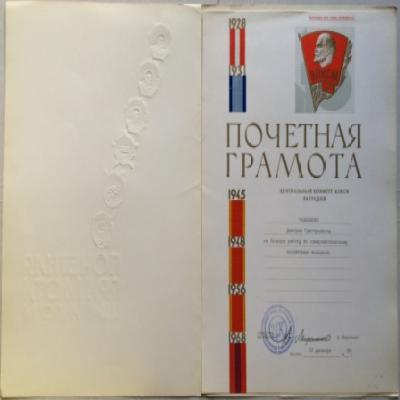document: (6, 5, 395, 396)
